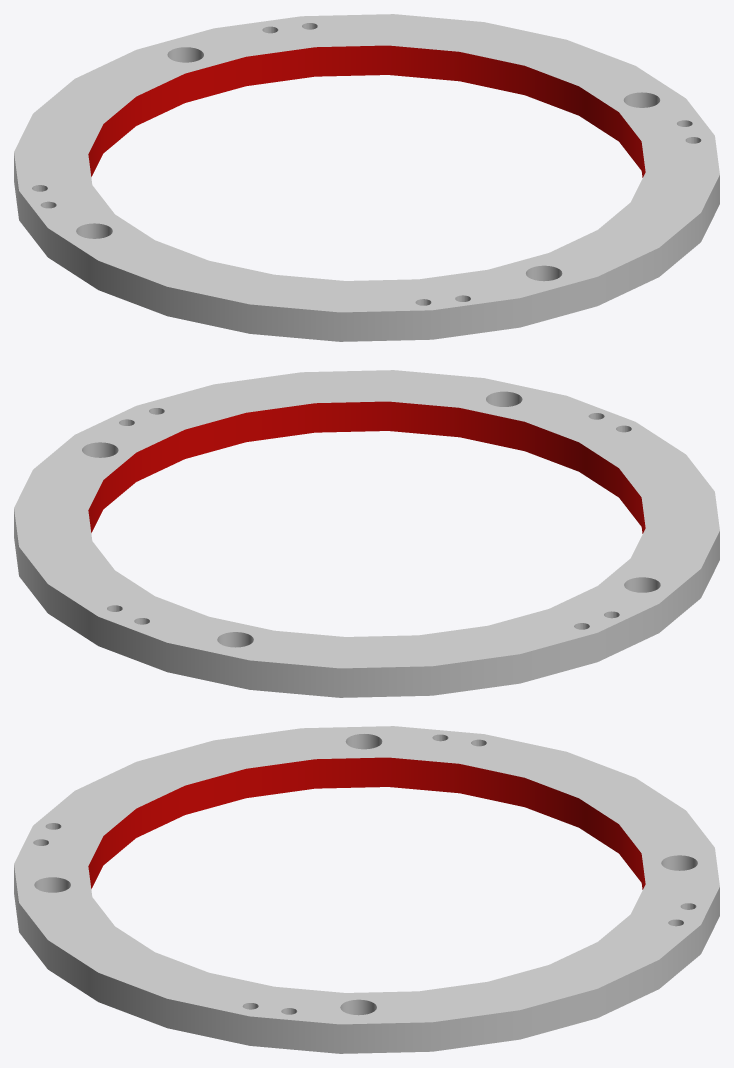
Rendered from B_Locking Plate.fbx.
3 views of the same model, one above another, from view 1: azimuth 30°, elevation 25°; view 2: azimuth 150°, elevation 25°; view 3: azimuth 270°, elevation 25° (orthographic).
Visible parts, largest first — view 1: 5.003; view 2: 5.003; view 3: 5.003.
Boxes of the visible parts, bbox=[...] form: 5.003: bbox=[14, 14, 719, 341]; 5.003: bbox=[14, 370, 719, 697]; 5.003: bbox=[14, 726, 719, 1053].
Size of the model in its own units: 26.63 by 1.23 by 26.63.
